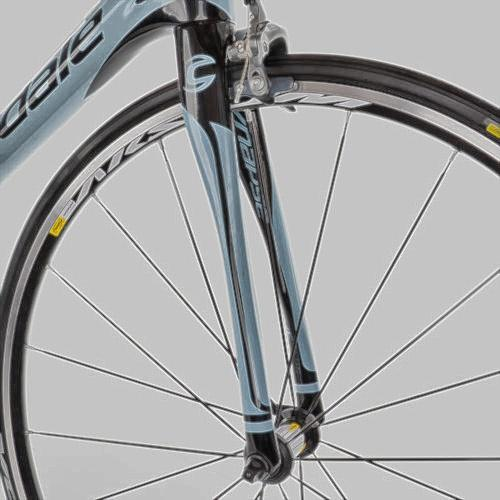bicycle: (50, 51, 472, 477)
